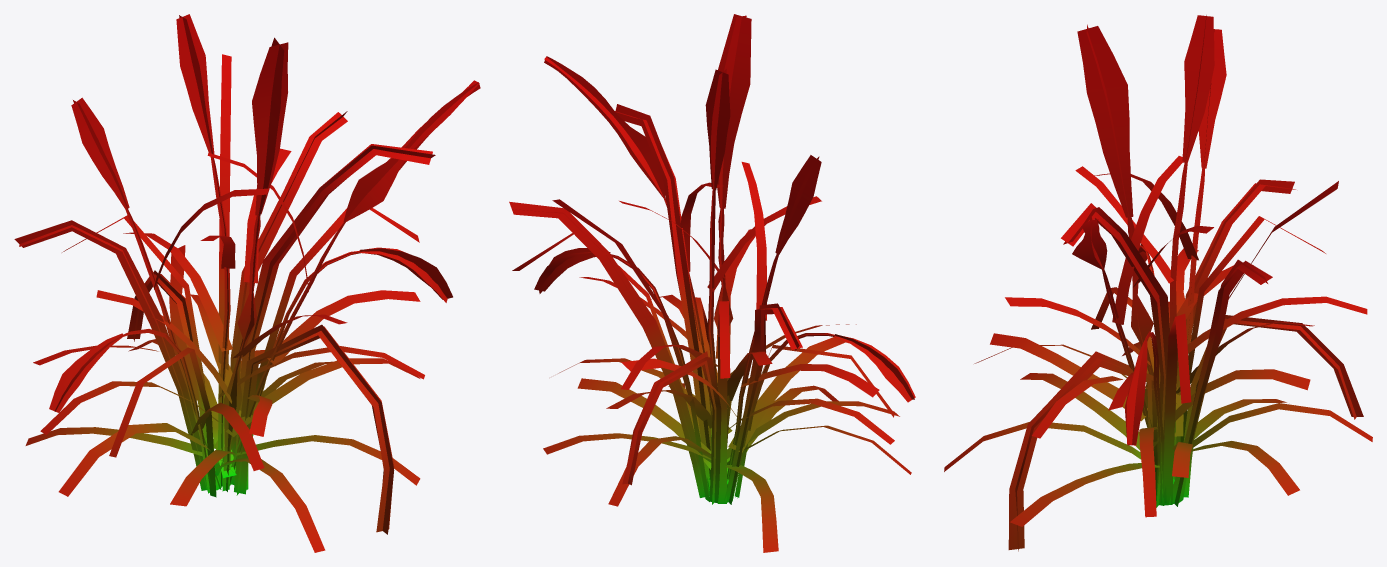
The model's file is Basket Grass_LOD2_Var7_slfpffjr.fbx.
3 renders of one model, left to right at view 1: azimuth 30°, elevation 25°; view 2: azimuth 150°, elevation 25°; view 3: azimuth 270°, elevation 25°, orthographic. The views are drawn at different scales.
Visible parts, largest first — view 1: _b373_Var7_LOD2; view 2: _b373_Var7_LOD2; view 3: _b373_Var7_LOD2.
Part boxes in pixels (x1=…): _b373_Var7_LOD2: x1=14, y1=14, x2=480, y2=552; _b373_Var7_LOD2: x1=509, y1=14, x2=915, y2=552; _b373_Var7_LOD2: x1=944, y1=15, x2=1372, y2=551.
Size of the model in its own units: 43.41 by 48.83 by 38.72.
